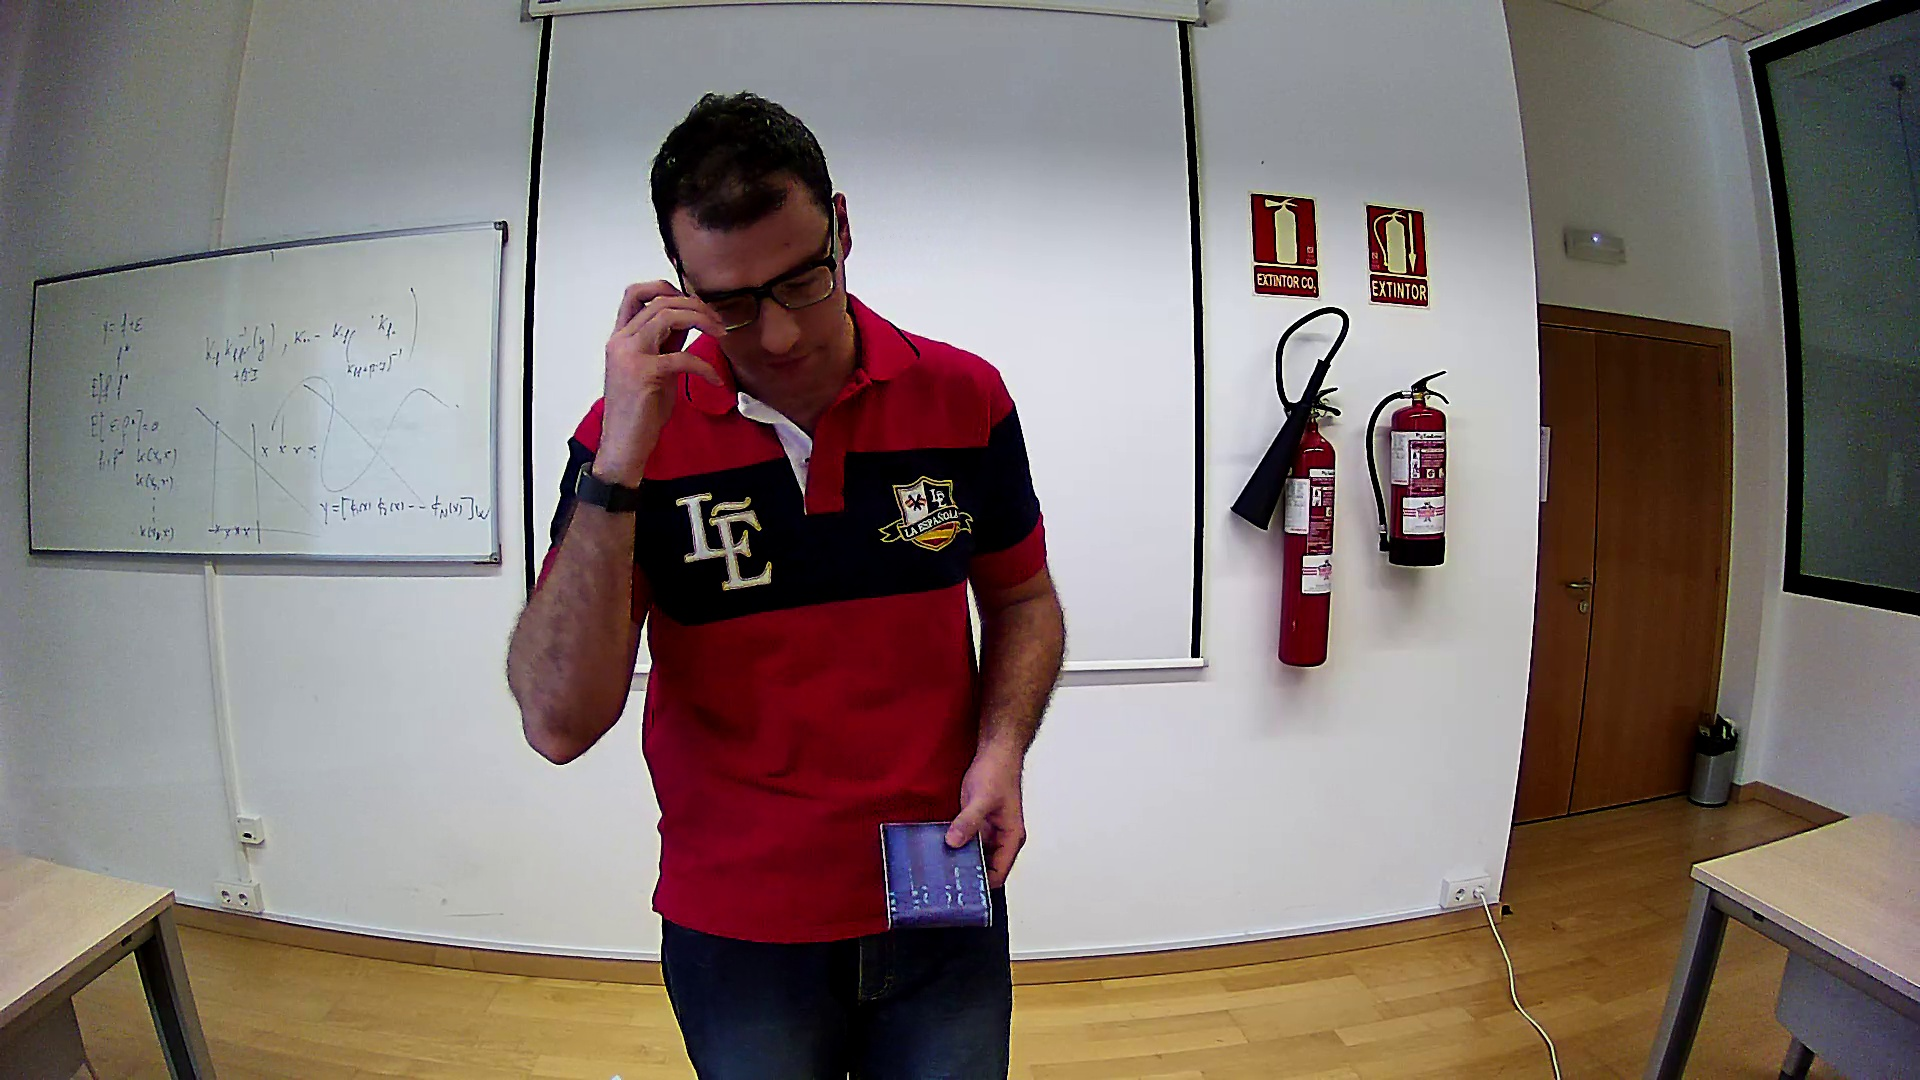monedero: (878, 819, 993, 934)
